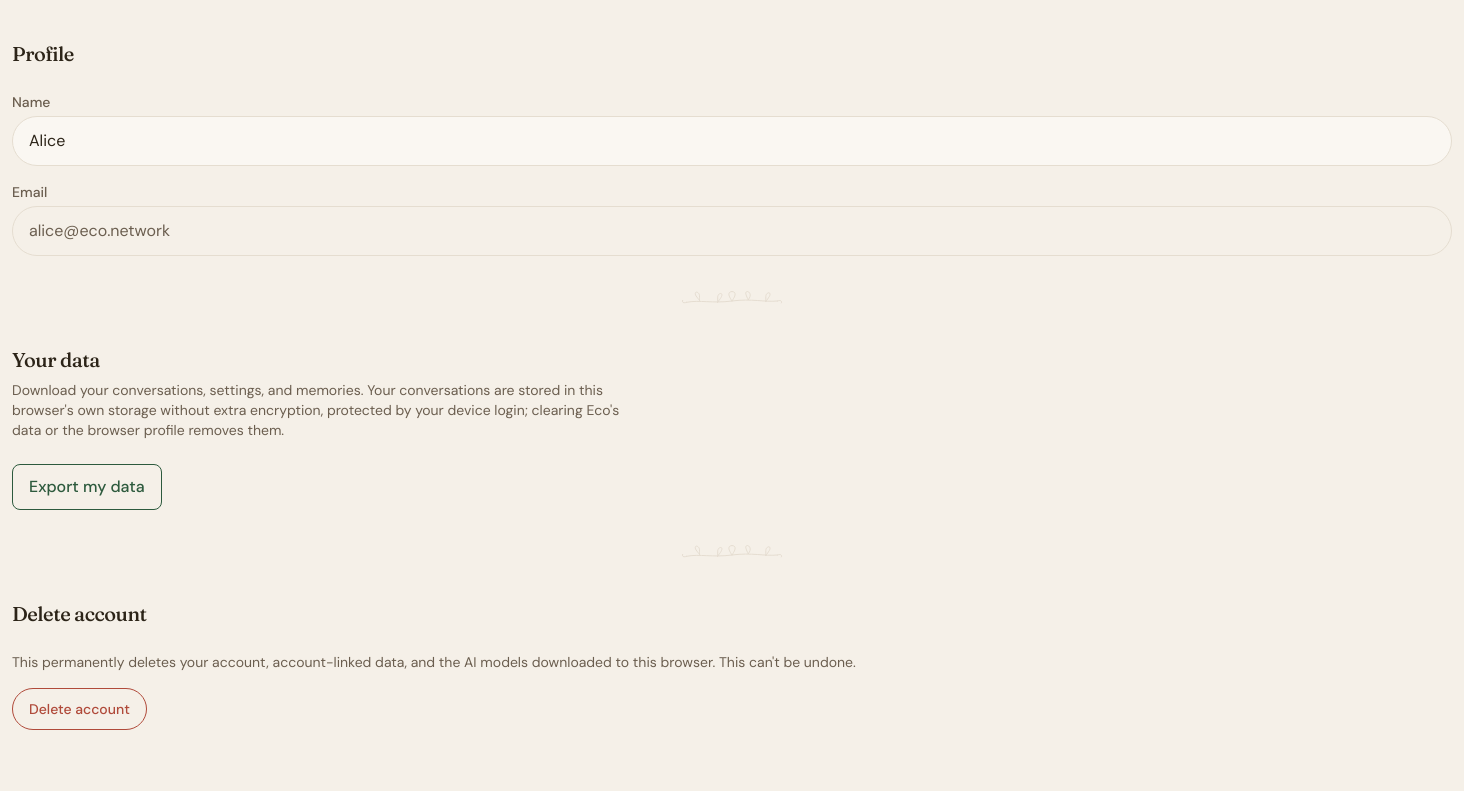
AccountTab › exports account data explicitly
Check: the field showing "alice@eco.network" is shown, box [12,206,1452,256]
Click the button "Export my data" at (87, 487), box [12,464,162,510]
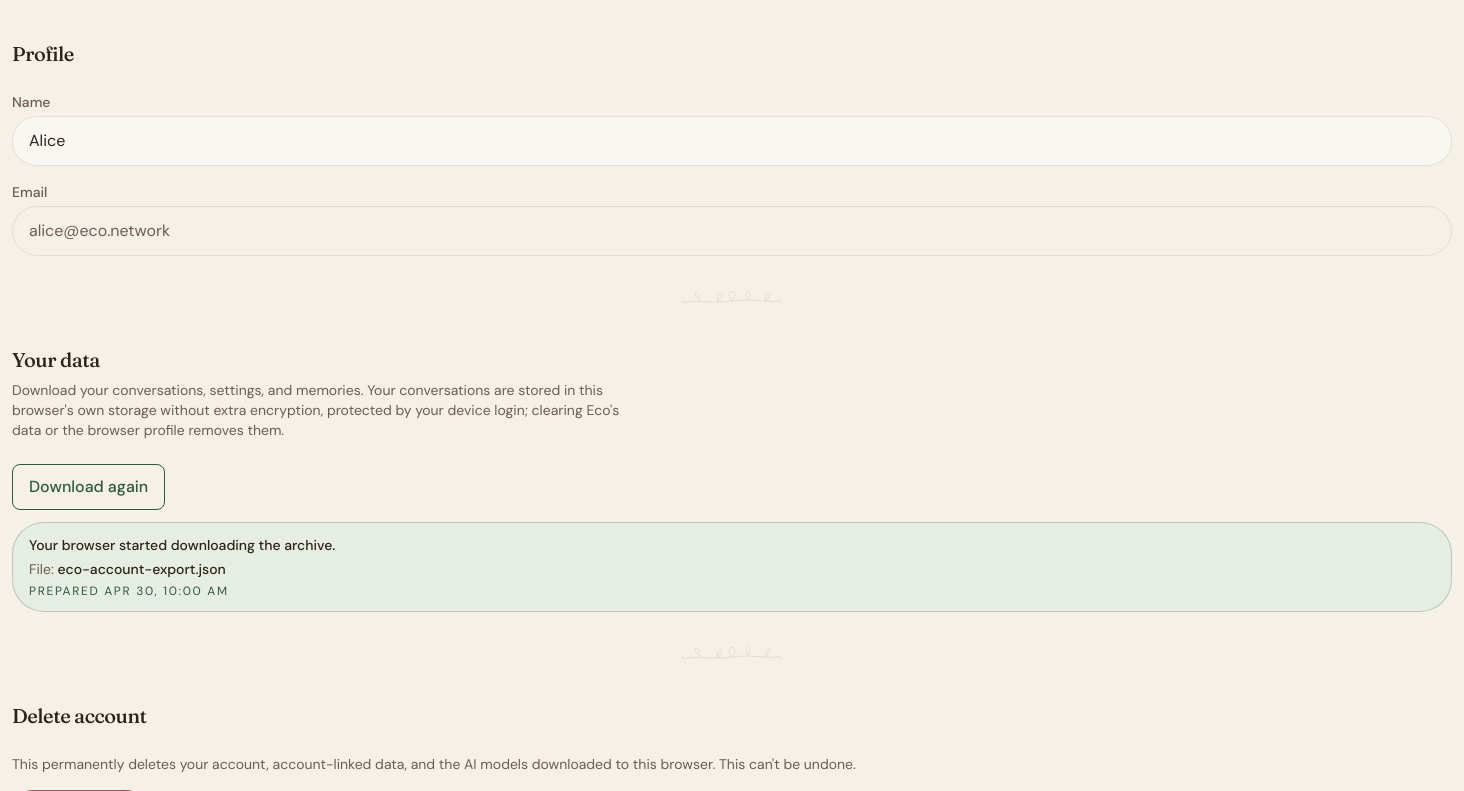
Check: the text "Your browser started downloading the archive." is shown, box [29,536,335,554]
Check: the text "eco-account-export.json" is shown, box [58,560,226,578]
